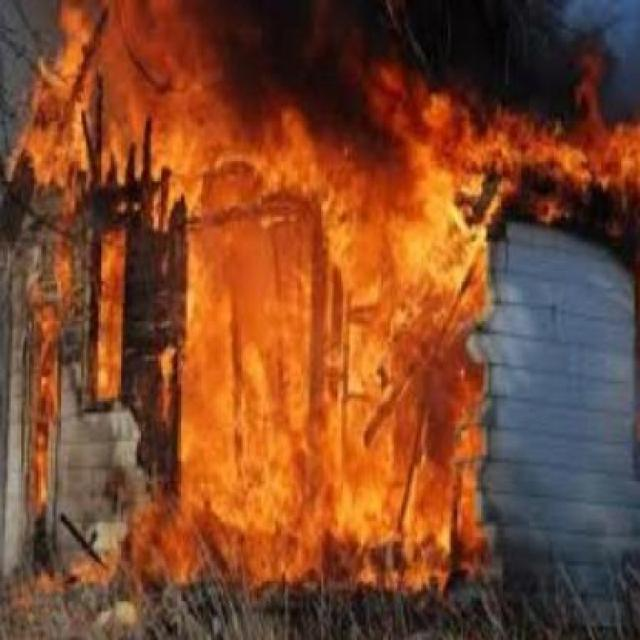Fire: (15, 11, 481, 596), (465, 92, 640, 246)
Smoke: (414, 0, 638, 119)
